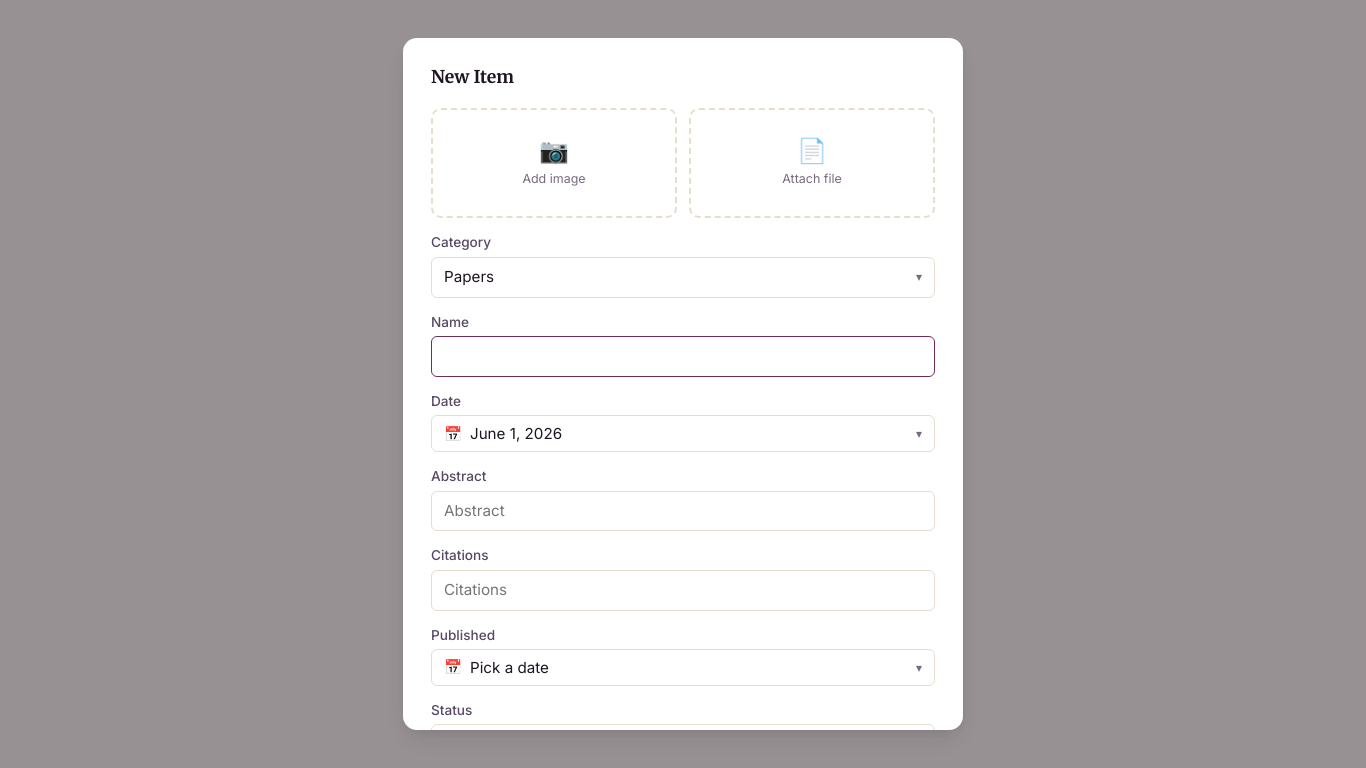
it: suggests words from the title
In the 1st field: (683, 356) [431, 336, 935, 377], type "Genome Sequencing"
(page scrolled)
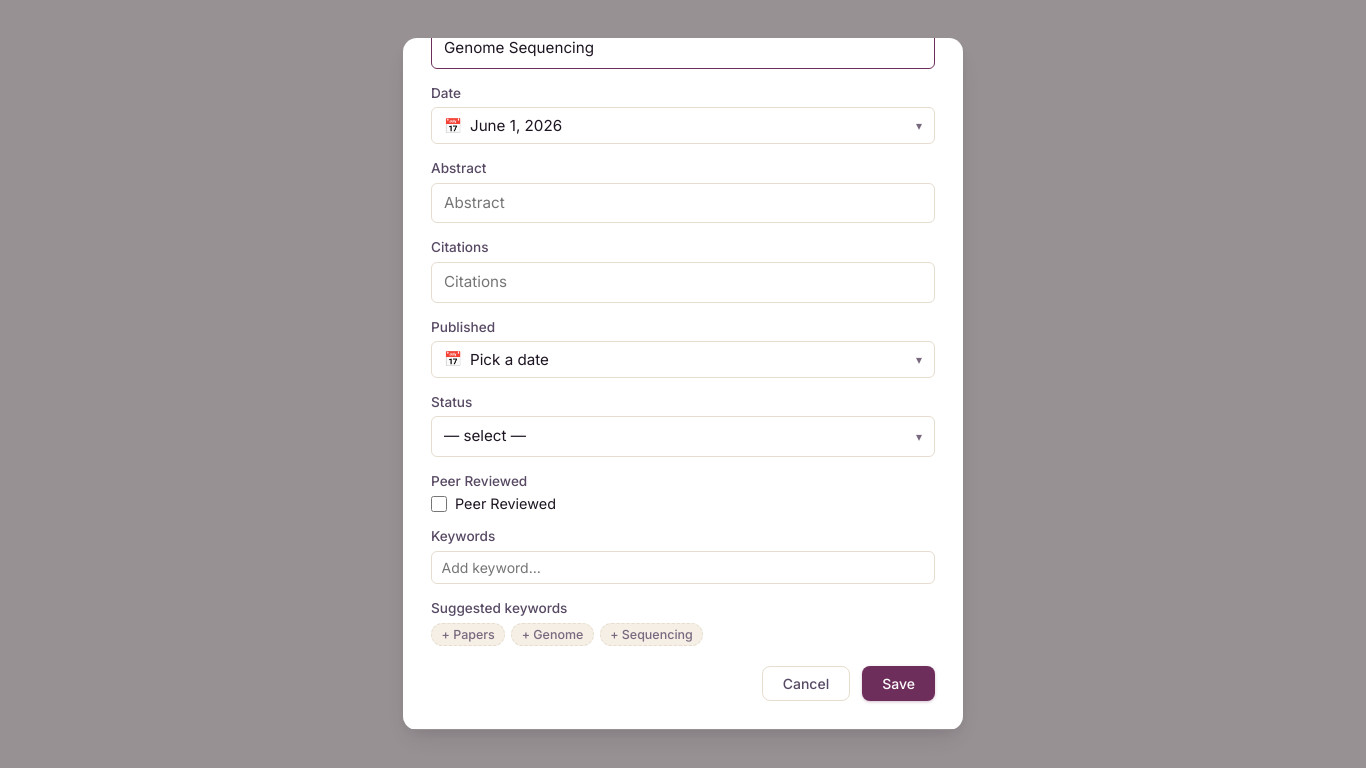
Check: the button "+ Genome" is shown, box [511, 623, 594, 646]
Check: the button "+ Sequencing" is shown, box [600, 623, 703, 646]
